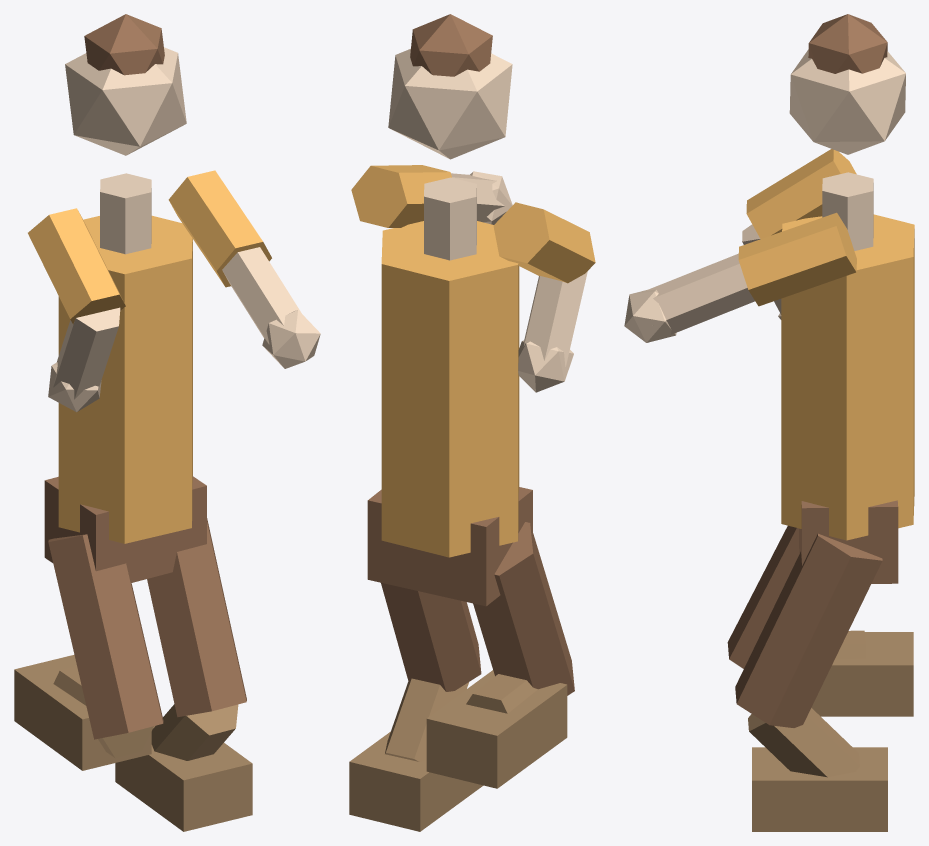
Rendered from pose_walk_07.glb.
The picture shows the model from 3 angles, left to right: view 1: azimuth 30°, elevation 25°; view 2: azimuth 150°, elevation 25°; view 3: azimuth 270°, elevation 25°; orthographic projection. The views are drawn at different scales.
Visible parts, largest first — view 1: pose; view 2: pose; view 3: pose.
Part boxes in pixels (x1,y1,x2,y2): pose: [14, 14, 320, 831]; pose: [349, 14, 595, 831]; pose: [624, 14, 914, 831].
Bounding box in the file's own units: 0.3977 × 1.52 × 0.5131.
